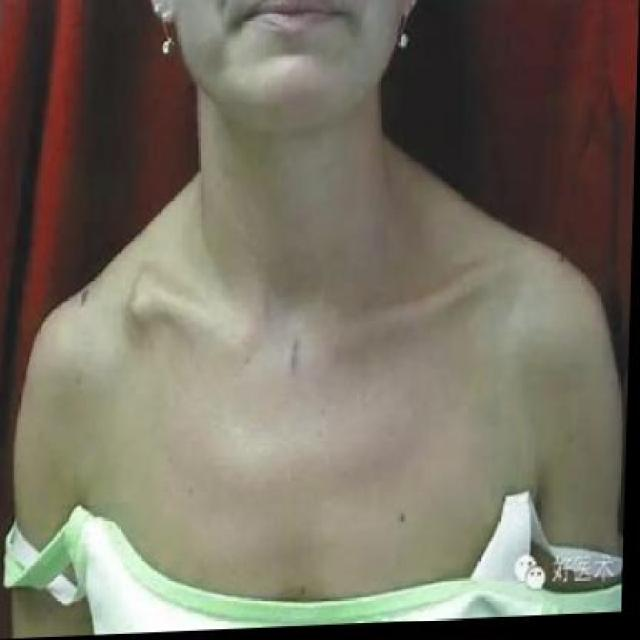Healthy: (202, 78, 380, 306)
